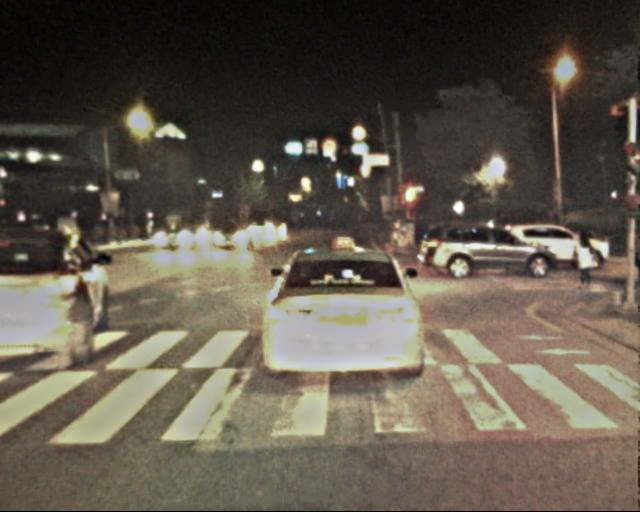person: (570, 229, 599, 299), (627, 234, 640, 292)
